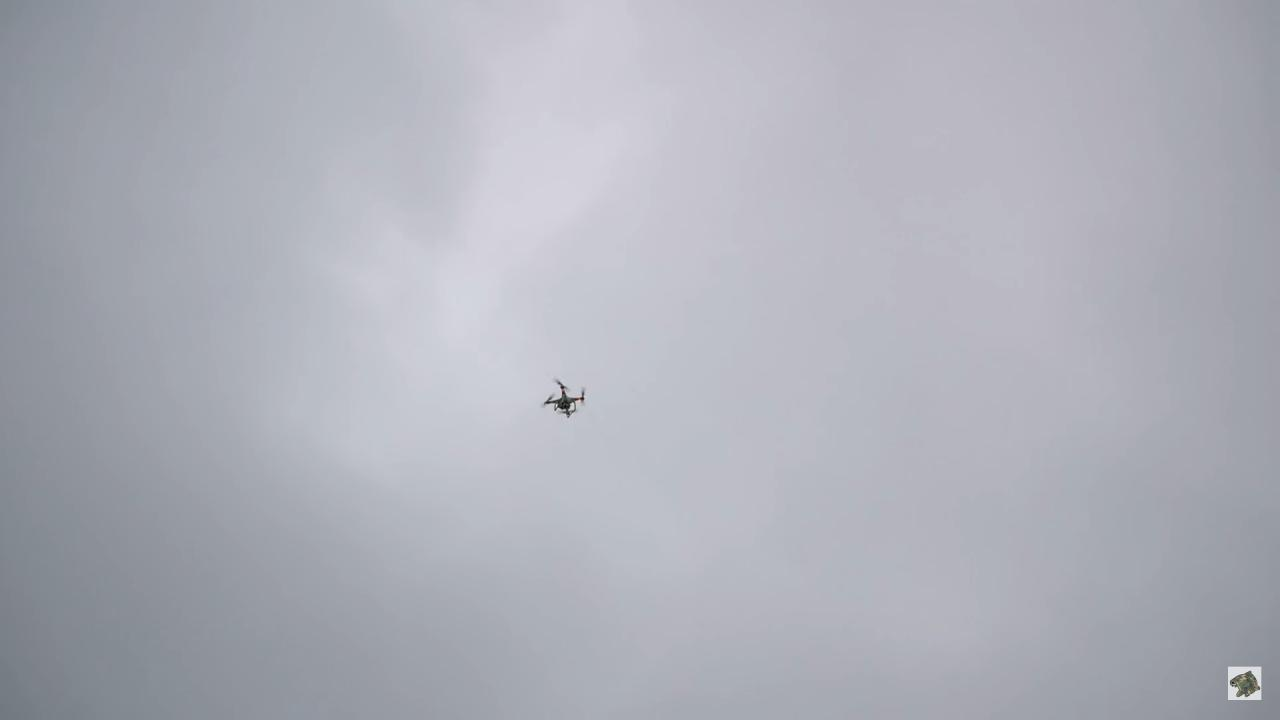Drone: (534, 372, 598, 424)
